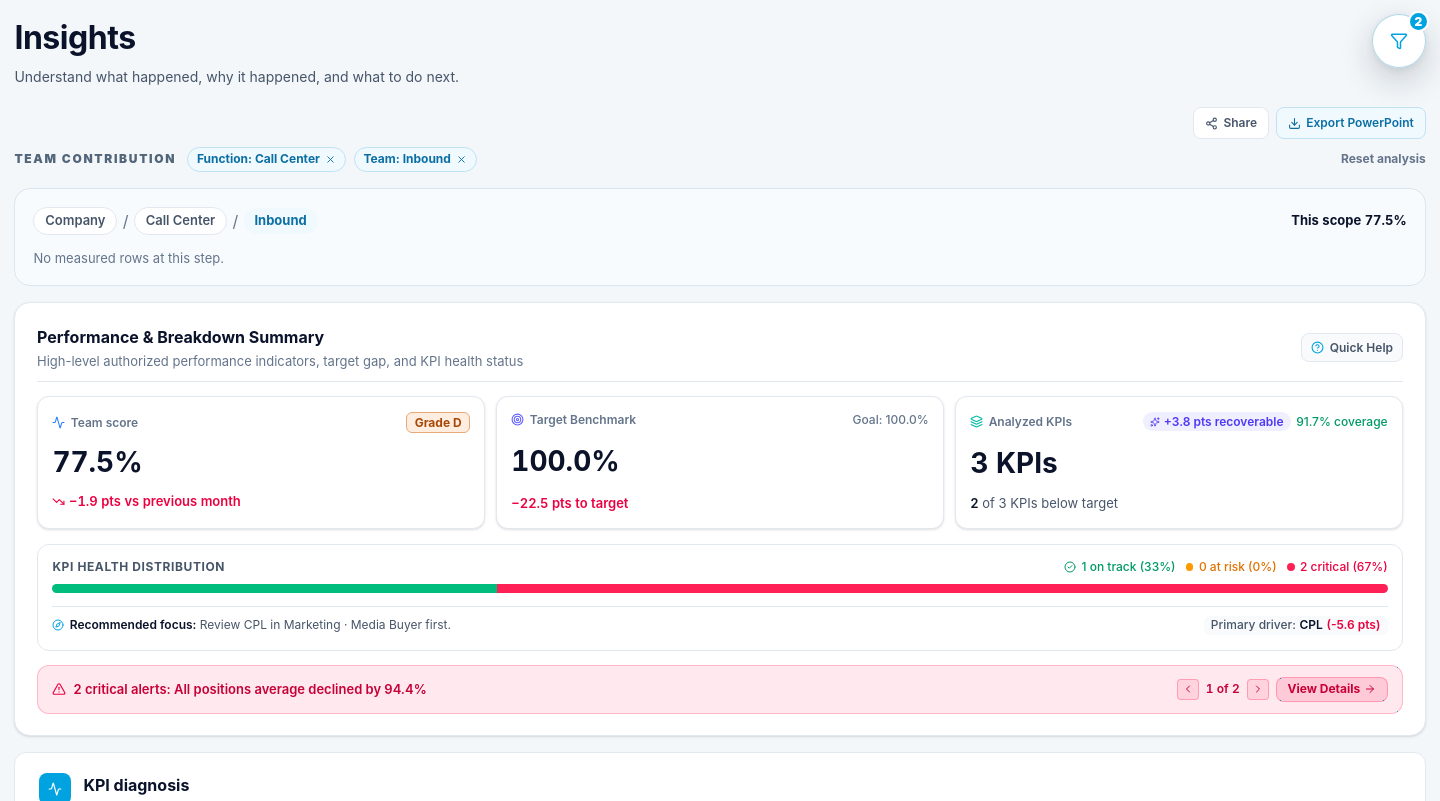
it: InsightsView › restores Function and Team from the URL
Click the button named "Insights filters".
click(1399, 41)  # box [1372,14,1426,68]
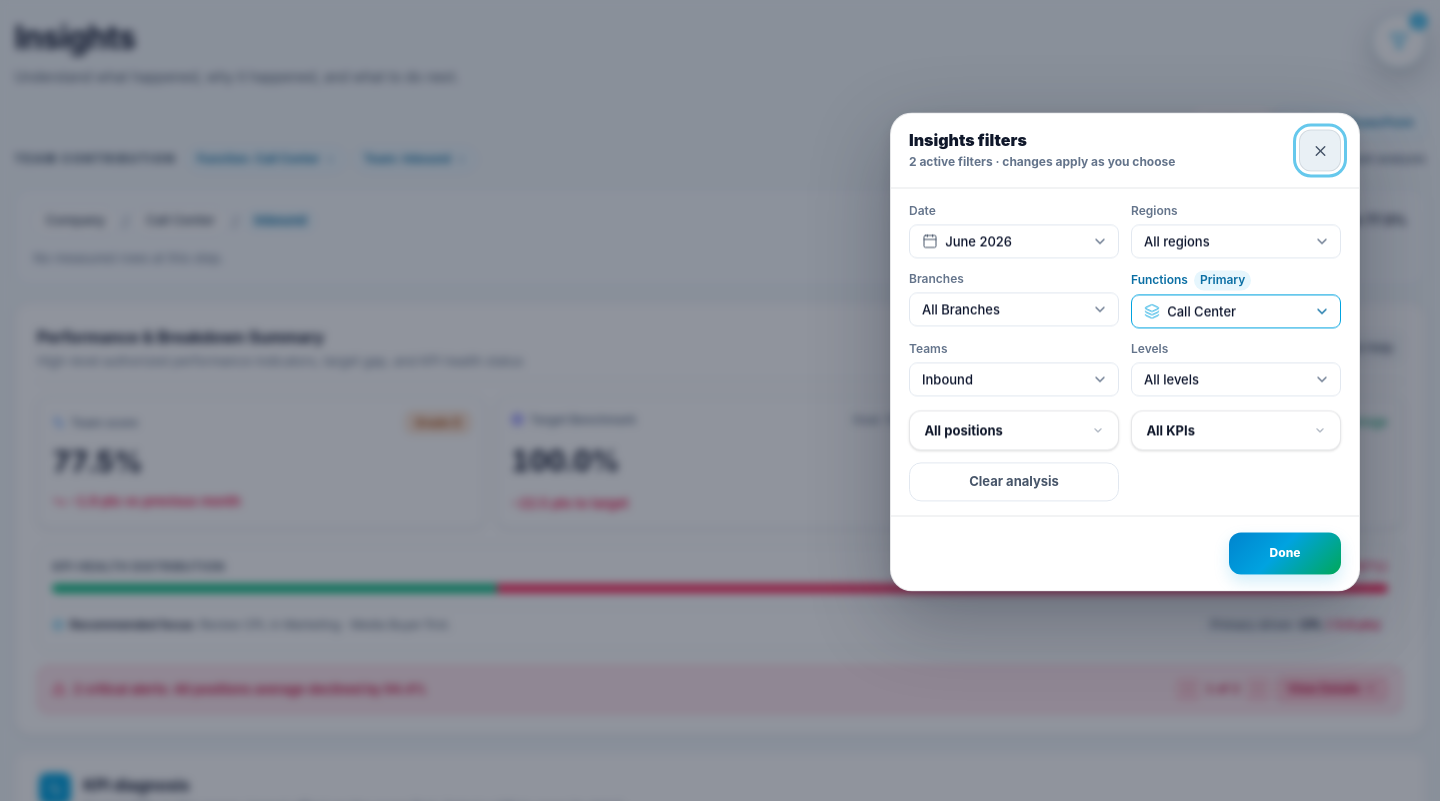
Expected: the text "Inbound" below "Team contribution" is shown, [254,212,307,228]
Expected: the dropdown named "Function" shows "Call Center", [1130,294,1159,330]
Expected: the dropdown named "Team" shows "Inbound", [908,362,937,398]
